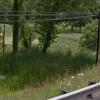Tree: (12, 0, 100, 56)
